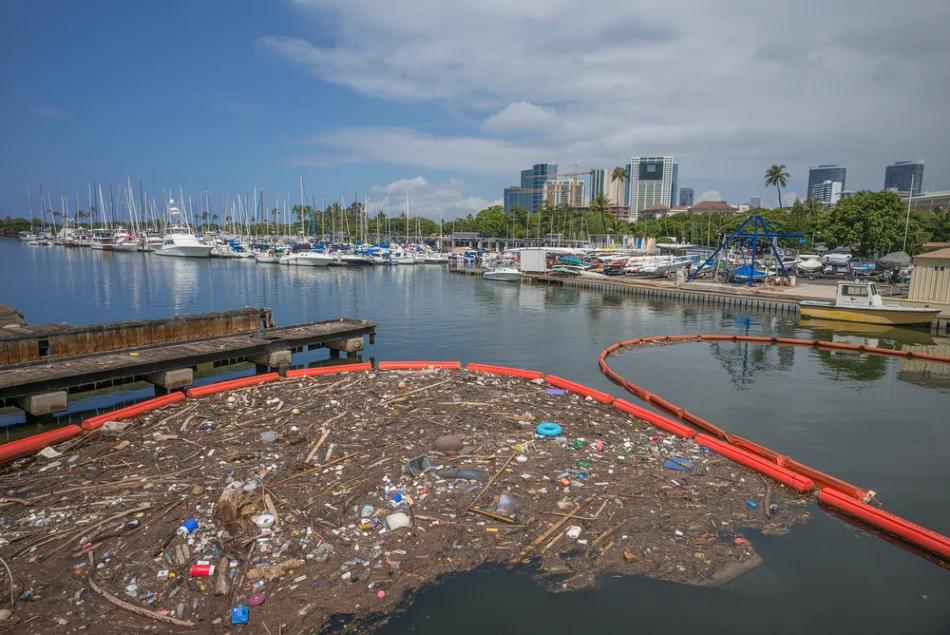garbage: (0, 366, 936, 635)
